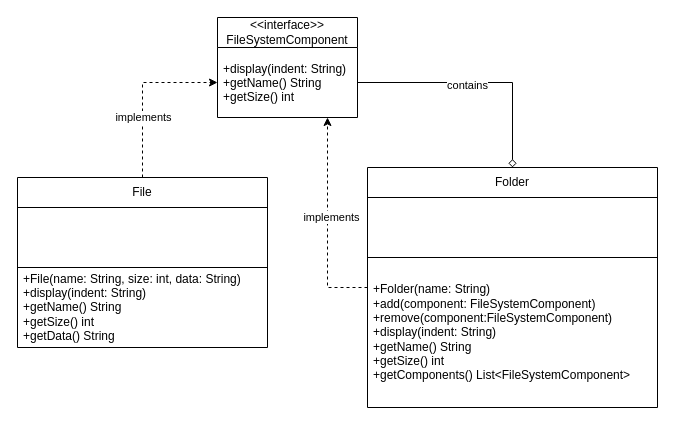
Image size: 675x425. Some labels were removed from this diagram. Each missing label, with the centre of its shape:
"-name: String -components: List< FileSystemComponent>" belongs at [512,227].
"-name: String -size: int -data: String" belongs at [142,237].
